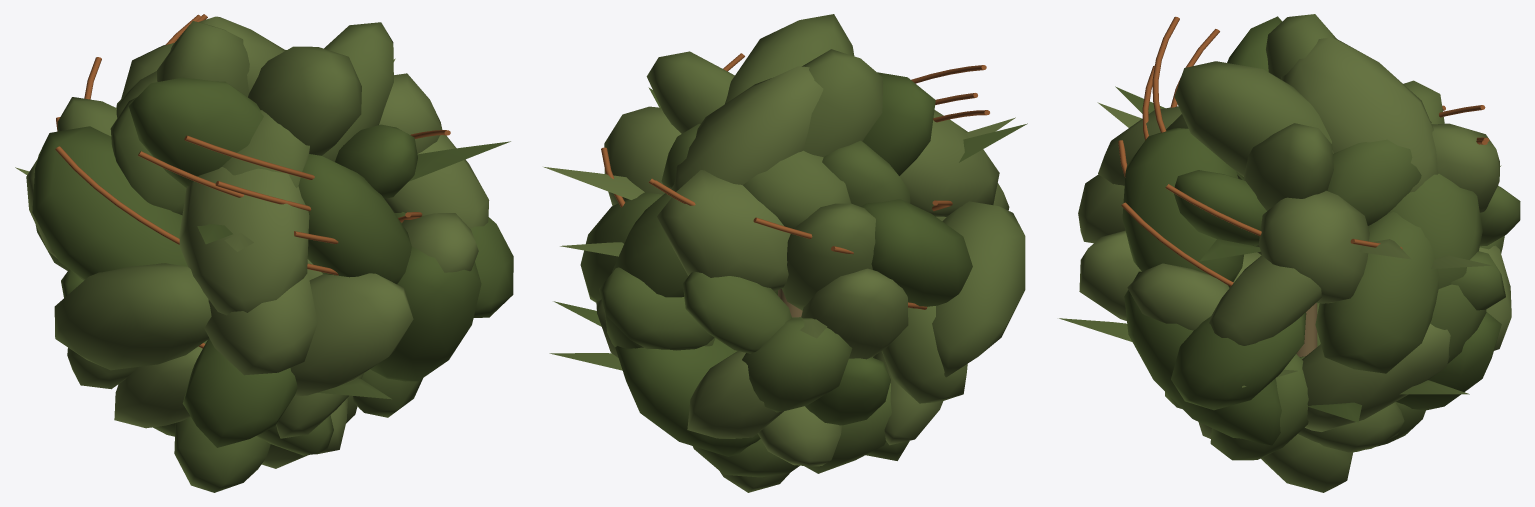
The model's file is bud_7.glb.
The picture shows the model from 3 angles, left to right: view 1: azimuth 30°, elevation 25°; view 2: azimuth 150°, elevation 25°; view 3: azimuth 270°, elevation 25°; orthographic projection. The views are drawn at different scales.
Visible parts, largest first — view 1: Bud_7; view 2: Bud_7; view 3: Bud_7.
Part boxes in pixels (bbox=[...]): Bud_7: bbox=[15, 14, 513, 492]; Bud_7: bbox=[544, 14, 1027, 492]; Bud_7: bbox=[1059, 14, 1520, 492].
Bounding box in the file's own units: 0.00532 × 0.00552 × 0.0053.
